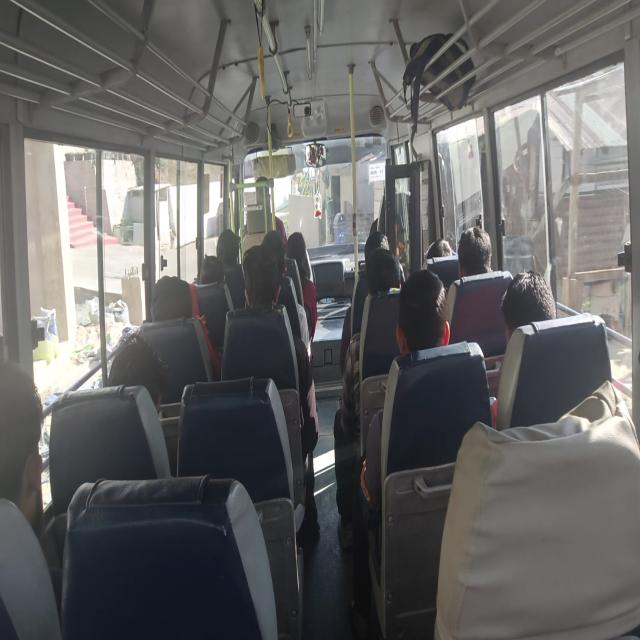person: (0, 354, 50, 546), (393, 266, 452, 360), (498, 265, 560, 345), (109, 333, 170, 406), (149, 270, 206, 325), (455, 223, 504, 276), (242, 240, 278, 306), (362, 250, 404, 287), (212, 221, 241, 268), (200, 252, 230, 292), (418, 234, 458, 263), (262, 222, 288, 266), (249, 170, 276, 210), (287, 225, 312, 268), (376, 178, 404, 212), (363, 229, 393, 258)
